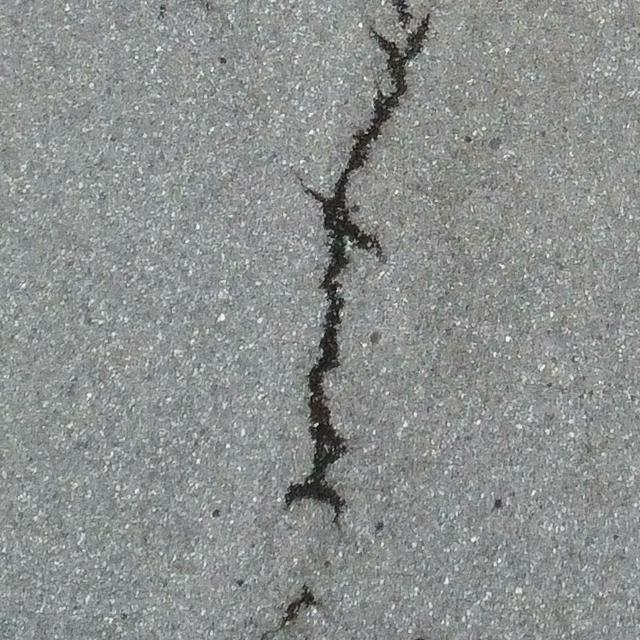LongitudinalCrack: (286, 1, 431, 529)
